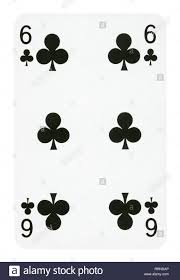six of hearts: (15, 14, 166, 249)
